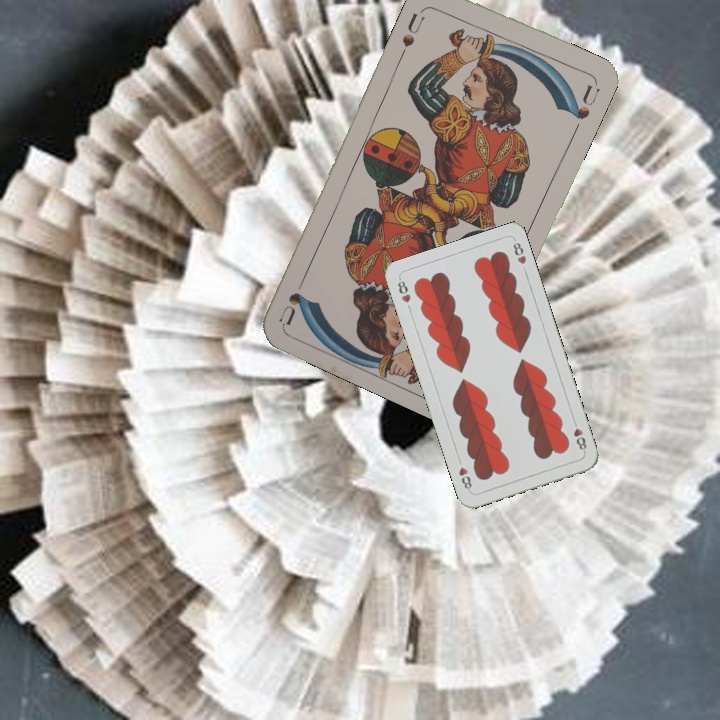H8: (569, 416, 589, 455), (393, 275, 413, 306)
SU: (397, 3, 430, 50)
